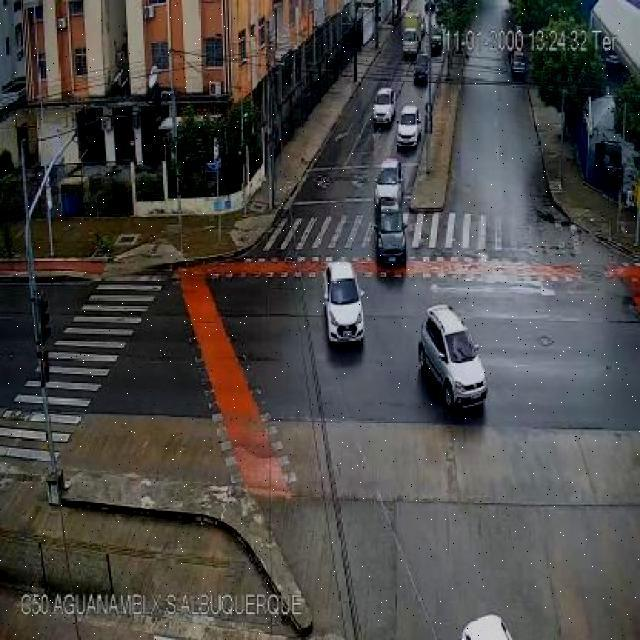Car: (418, 303, 488, 410), (321, 263, 365, 345), (374, 208, 408, 272), (374, 159, 404, 209), (396, 104, 422, 146), (372, 87, 396, 125), (510, 50, 529, 82), (412, 54, 430, 84), (429, 28, 443, 55), (1, 78, 26, 93)
Truck: (401, 13, 421, 58)
